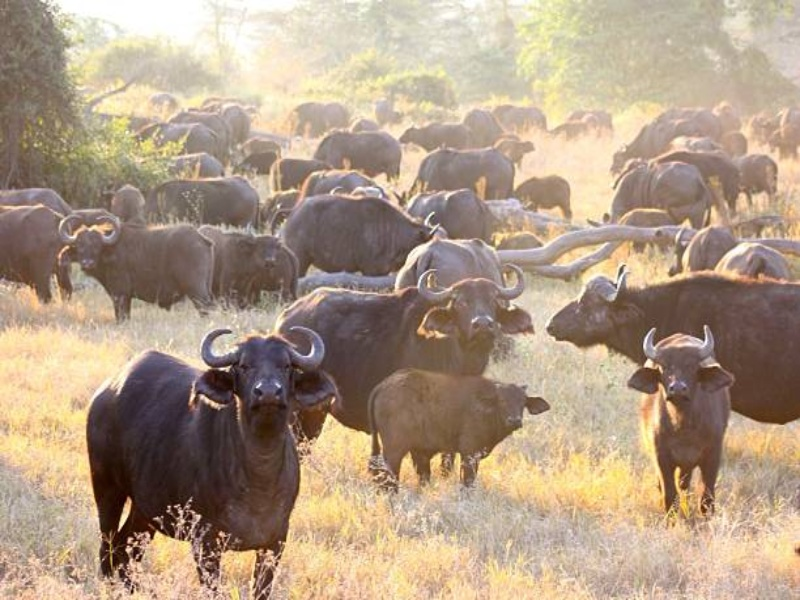buffalo: (83, 323, 342, 585)
